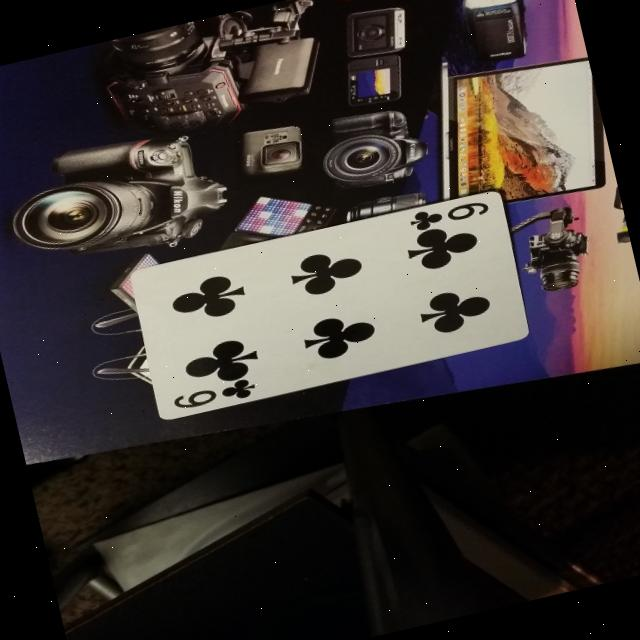6c: (165, 369, 265, 418), (399, 192, 498, 240)
